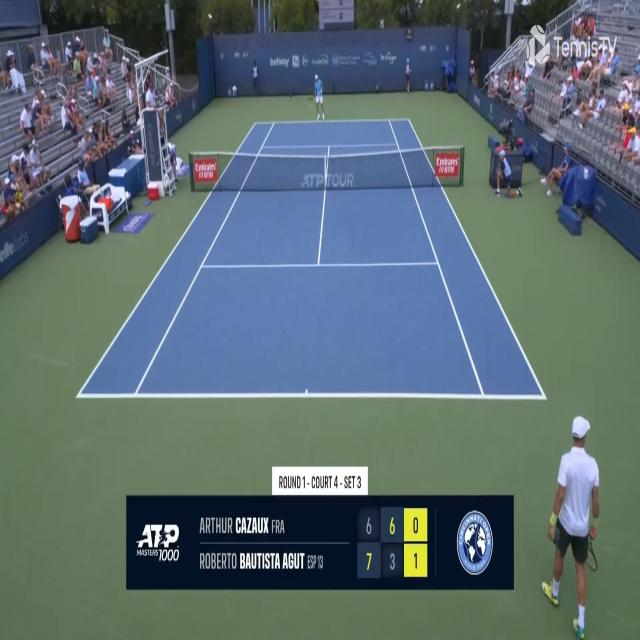tennis-player: (541, 410, 601, 639), (308, 73, 326, 124)
